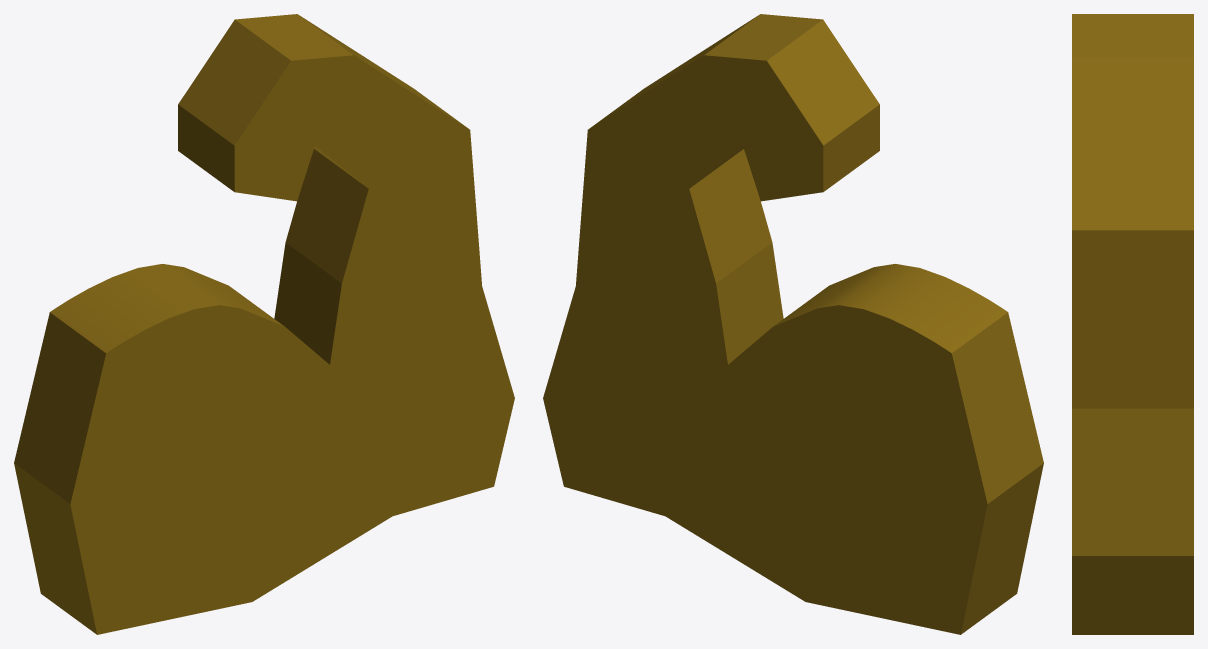
Rendered from Strength.fbx.
The picture shows the model from 3 angles, left to right: view 1: azimuth 30°, elevation 25°; view 2: azimuth 150°, elevation 25°; view 3: azimuth 270°, elevation 25°; orthographic projection. The views are drawn at different scales.
Parts seen in each view (by area): view 1: Line001; view 2: Line001; view 3: Line001.
Boxes of the visible parts, bbox=[...] form: Line001: bbox=[14, 14, 514, 634]; Line001: bbox=[543, 14, 1043, 634]; Line001: bbox=[1072, 14, 1193, 634].
Size of the model in its own units: 48.56 by 55.5 by 10.67.
